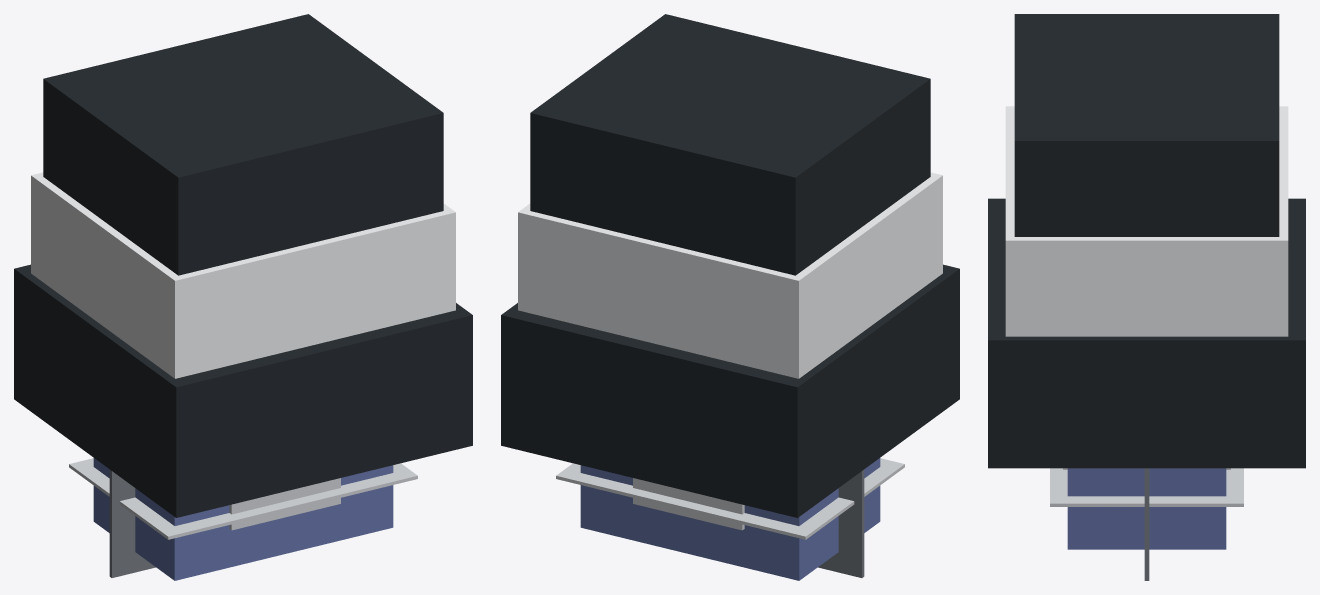
The model's file is 04_Base_Chassis_and_Power.glb.
3 renders of one model, left to right at view 1: azimuth 30°, elevation 25°; view 2: azimuth 150°, elevation 25°; view 3: azimuth 270°, elevation 25°, orthographic. The views are drawn at different scales.
Visible parts, largest first — view 1: CHASSIS_Sensor_Bay, CHASSIS_Lower_Module, CHASSIS_Mid_Deck, COMP_BATTERY_ENVELOPE, BATTERY_SERVICE_ACCESS, PANEL_SERVICE_BATTERY_REAR, BATTERY_MOUNT_LEFT; view 2: CHASSIS_Sensor_Bay, CHASSIS_Lower_Module, CHASSIS_Mid_Deck, COMP_BATTERY_ENVELOPE, BATTERY_SERVICE_ACCESS, PANEL_SERVICE_BATTERY_REAR, BATTERY_MOUNT_LEFT; view 3: CHASSIS_Sensor_Bay, CHASSIS_Lower_Module, CHASSIS_Mid_Deck, COMP_BATTERY_ENVELOPE, BATTERY_SERVICE_ACCESS, PANEL_SERVICE_BATTERY_REAR.
Part boxes in pixels (bbox=[...]): CHASSIS_Sensor_Bay: bbox=[43, 14, 443, 275]; CHASSIS_Lower_Module: bbox=[14, 264, 472, 517]; CHASSIS_Mid_Deck: bbox=[31, 172, 455, 378]; COMP_BATTERY_ENVELOPE: bbox=[93, 458, 393, 580]; BATTERY_SERVICE_ACCESS: bbox=[69, 458, 417, 539]; PANEL_SERVICE_BATTERY_REAR: bbox=[109, 469, 155, 577]; BATTERY_MOUNT_LEFT: bbox=[229, 478, 340, 530]; CHASSIS_Sensor_Bay: bbox=[530, 14, 930, 275]; CHASSIS_Lower_Module: bbox=[501, 264, 959, 517]; CHASSIS_Mid_Deck: bbox=[518, 172, 942, 378]; COMP_BATTERY_ENVELOPE: bbox=[580, 458, 880, 580]; BATTERY_SERVICE_ACCESS: bbox=[556, 458, 904, 539]; PANEL_SERVICE_BATTERY_REAR: bbox=[818, 469, 864, 577]; BATTERY_MOUNT_LEFT: bbox=[633, 478, 744, 530]; CHASSIS_Sensor_Bay: bbox=[1014, 14, 1279, 236]; CHASSIS_Lower_Module: bbox=[988, 198, 1305, 468]; CHASSIS_Mid_Deck: bbox=[1005, 106, 1288, 336]; COMP_BATTERY_ENVELOPE: bbox=[1067, 468, 1226, 549]; BATTERY_SERVICE_ACCESS: bbox=[1050, 468, 1243, 506]; PANEL_SERVICE_BATTERY_REAR: bbox=[1144, 468, 1149, 580].
Bounding box in the file's own units: 0.38 × 0.55 × 0.36.
